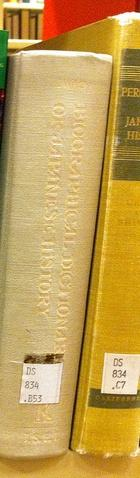call_number: (18, 363, 61, 404), (99, 352, 138, 393)
